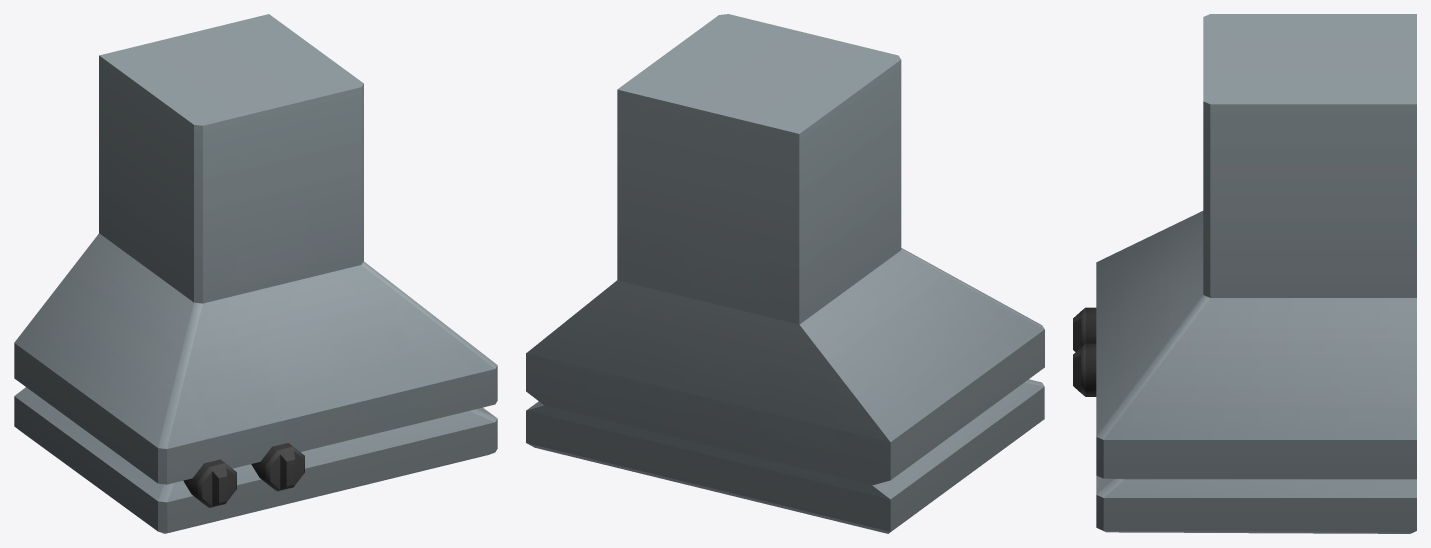
The model's file is kaykit-restaurant-bits-extractorhood.glb.
The picture shows the model from 3 angles, left to right: view 1: azimuth 30°, elevation 25°; view 2: azimuth 150°, elevation 25°; view 3: azimuth 270°, elevation 25°; orthographic projection. The views are drawn at different scales.
Parts seen in each view (by area): view 1: extractorhood; view 2: extractorhood; view 3: extractorhood.
Boxes of the visible parts, <box> form: extractorhood: <box>14,14,497,533</box>; extractorhood: <box>526,14,1044,533</box>; extractorhood: <box>1073,14,1416,533</box>.
Bounding box in the file's own units: 2 × 2 × 1.61.
Materials: 1 (1 with a texture image).
